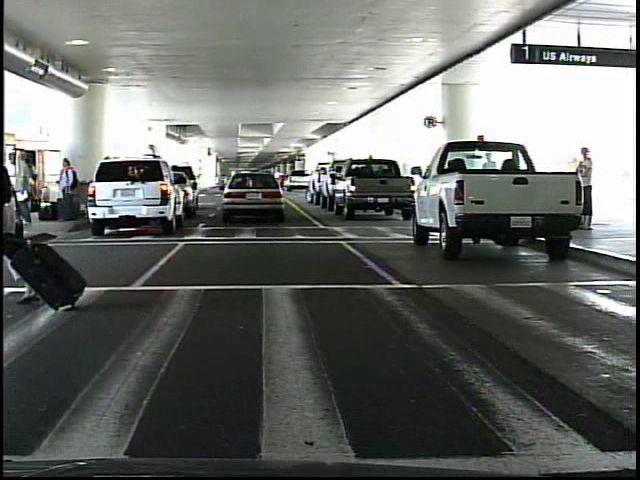person: (566, 147, 601, 231), (14, 151, 38, 226), (54, 157, 77, 224)
